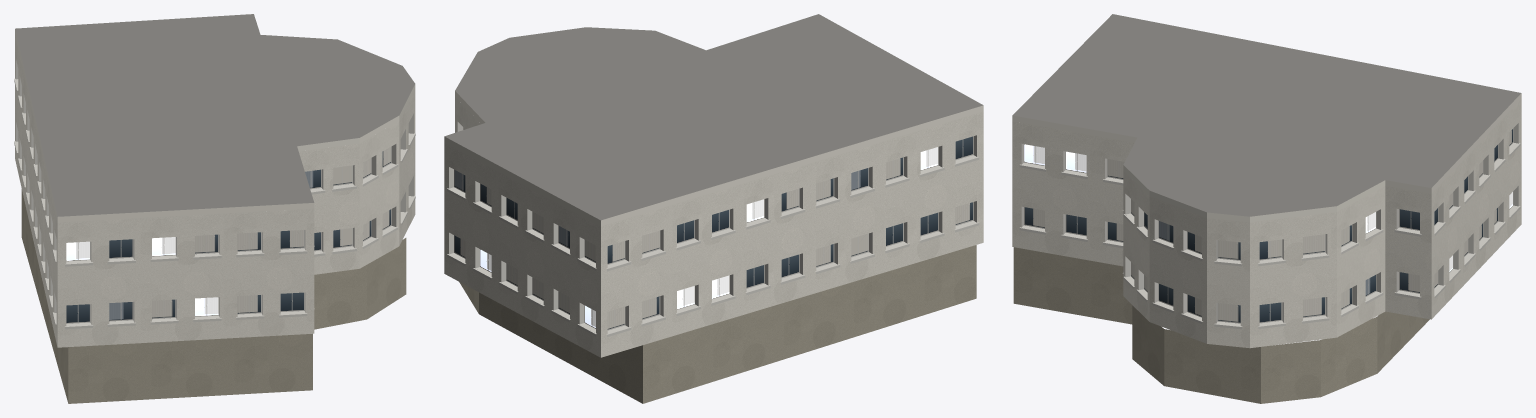
Rendered from z3b_pavilion_low.glb.
3 views of the same model, side by side, from view 1: azimuth 30°, elevation 25°; view 2: azimuth 150°, elevation 25°; view 3: azimuth 270°, elevation 25° (orthographic). The views are drawn at different scales.
Parts seen in each view (by area): view 1: z3b_pavilion_low; view 2: z3b_pavilion_low; view 3: z3b_pavilion_low.
Part boxes in pixels (bbox=[...]): z3b_pavilion_low: bbox=[14, 14, 415, 403]; z3b_pavilion_low: bbox=[444, 14, 983, 403]; z3b_pavilion_low: bbox=[1012, 14, 1521, 403].
Size of the model in its own units: 22.81 by 9.9 by 24.21.
Materials: 3 (3 with a texture image).
